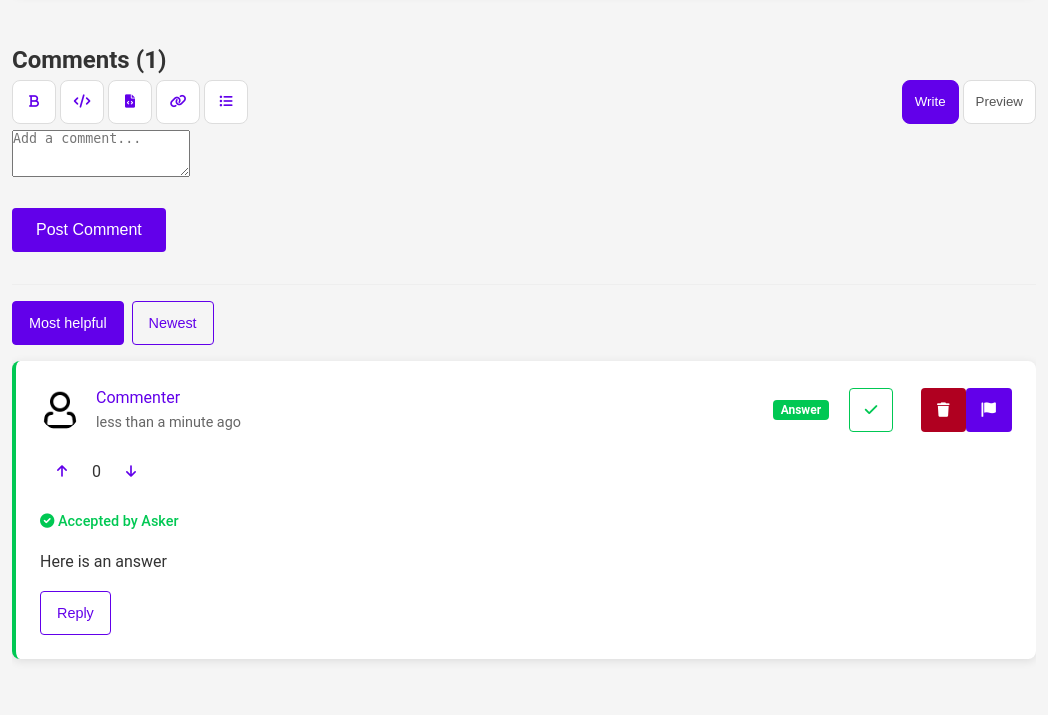
Test: PostDetail accepted answers › un-accepting an answer reverts the comment card and the question badge
(page scrolled)
Click the button named "unaccept" at point(871, 410), box x1=849 y1=388 x2=893 y2=432
(page scrolled)
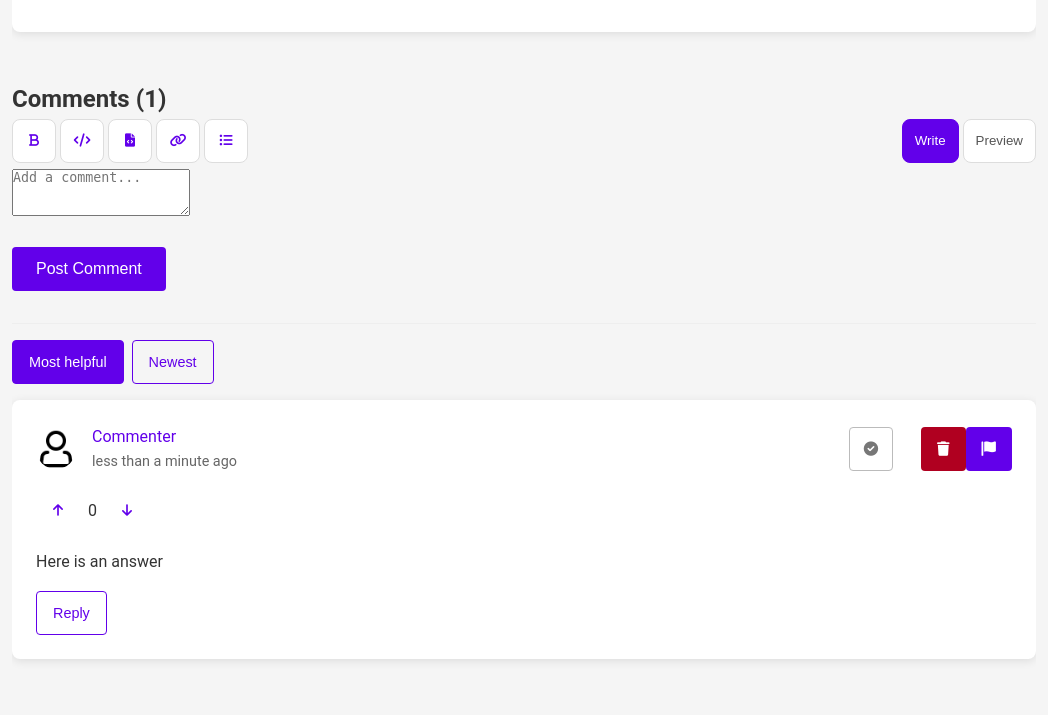
Expected: the text "Accepted by" is gone
